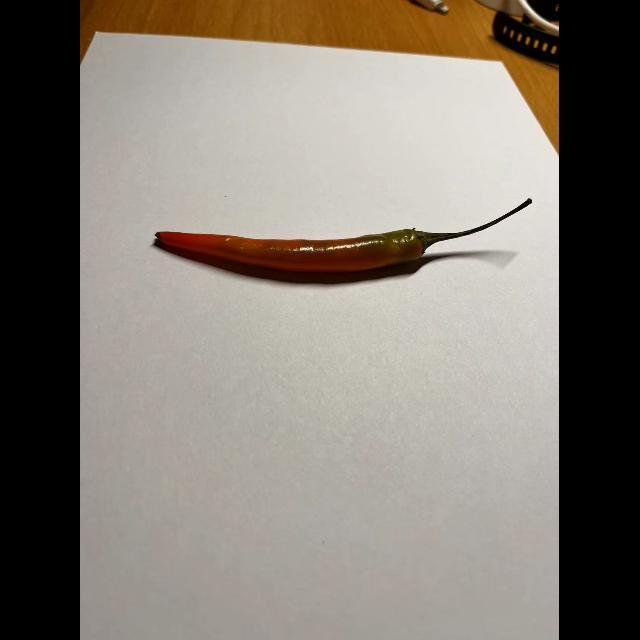chili_pepper: (152, 192, 544, 286)
